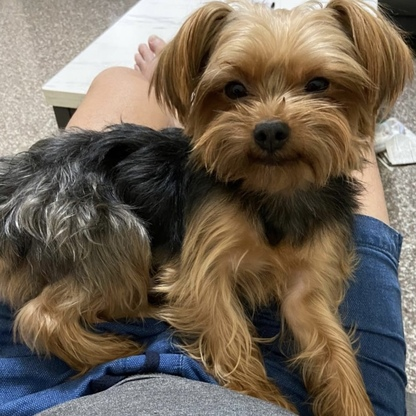yorkshire: (11, 3, 413, 415)
